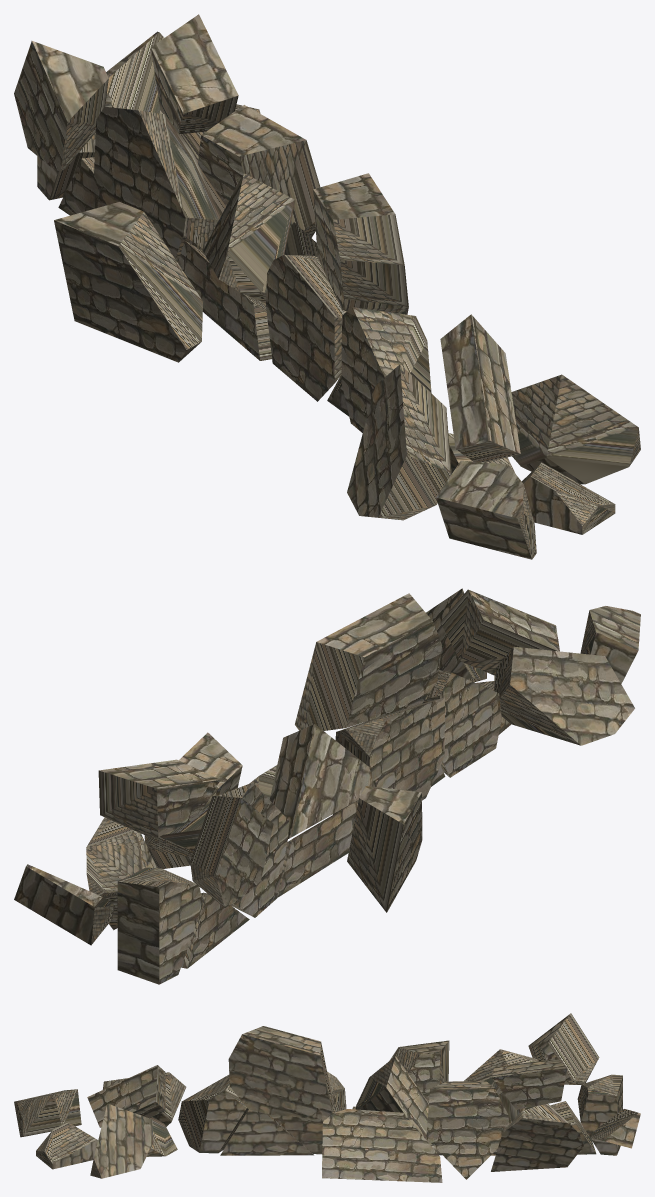
Rendered from BreakWallLarge_000009.obj.
3 views of the same model, one above another, from view 1: azimuth 30°, elevation 25°; view 2: azimuth 150°, elevation 25°; view 3: azimuth 270°, elevation 25° (orthographic). The views are drawn at different scales.
Visible parts, largest first — view 1: Cube.057_cell.017_Cube.057_cell.016, Cube.057_cell.014_Cube.057_cell.013, Cube.057_cell.021_Cube.057_cell.020, Cube.057_cell.018_Cube.057_cell.017, Cube.057_cell.007_Cube.057_cell.006, Cube.057_cell.013_Cube.057_cell.012, Cube.057_cell.001_Cube.057_cell.000, Cube.057_cell.020_Cube.057_cell.019, Cube.057_cell.011_Cube.057_cell.010, Cube.057_cell.015_Cube.057_cell.014, Cube.057_cell_Cube.057_cell.022, Cube.057_cell.016_Cube.057_cell.015 (+7 smaller); view 2: Cube.057_cell.018_Cube.057_cell.017, Cube.057_cell.021_Cube.057_cell.020, Cube.057_cell.003_Cube.057_cell.002, Cube.057_cell_Cube.057_cell.022, Cube.057_cell.013_Cube.057_cell.012, Cube.057_cell.016_Cube.057_cell.015, Cube.057_cell.017_Cube.057_cell.016, Cube.057_cell.001_Cube.057_cell.000, Cube.057_cell.011_Cube.057_cell.010, Cube.057_cell.010_Cube.057_cell.009, Cube.057_cell.019_Cube.057_cell.018, Cube.057_cell.020_Cube.057_cell.019 (+6 smaller); view 3: Cube.057_cell.018_Cube.057_cell.017, Cube.057_cell.004_Cube.057_cell.003, Cube.057_cell.020_Cube.057_cell.019, Cube.057_cell.012_Cube.057_cell.011, Cube.057_cell.010_Cube.057_cell.009, Cube.057_cell.007_Cube.057_cell.006, Cube.057_cell_Cube.057_cell.022, Cube.057_cell.016_Cube.057_cell.015, Cube.057_cell.001_Cube.057_cell.000, Cube.057_cell.011_Cube.057_cell.010, Cube.057_cell.002_Cube.057_cell.001, Cube.057_cell.015_Cube.057_cell.014 (+9 smaller).
Boxes of the visible parts, left/top/right/bottom form: Cube.057_cell.017_Cube.057_cell.016: left=54, top=202, right=203, bottom=362; Cube.057_cell.014_Cube.057_cell.013: left=93, top=106, right=220, bottom=262; Cube.057_cell.021_Cube.057_cell.020: left=347, top=364, right=451, bottom=520; Cube.057_cell.018_Cube.057_cell.017: left=313, top=173, right=408, bottom=314; Cube.057_cell.007_Cube.057_cell.006: left=511, top=374, right=640, bottom=484; Cube.057_cell.013_Cube.057_cell.012: left=266, top=254, right=346, bottom=401; Cube.057_cell.001_Cube.057_cell.000: left=14, top=41, right=108, bottom=170; Cube.057_cell.020_Cube.057_cell.019: left=198, top=105, right=320, bottom=237; Cube.057_cell.011_Cube.057_cell.010: left=440, top=314, right=520, bottom=462; Cube.057_cell.015_Cube.057_cell.014: left=436, top=460, right=536, bottom=559; Cube.057_cell_Cube.057_cell.022: left=203, top=173, right=295, bottom=302; Cube.057_cell.016_Cube.057_cell.015: left=151, top=14, right=238, bottom=133; Cube.057_cell.018_Cube.057_cell.017: left=295, top=593, right=442, bottom=730; Cube.057_cell.021_Cube.057_cell.020: left=494, top=646, right=634, bottom=745; Cube.057_cell.003_Cube.057_cell.002: left=117, top=867, right=202, bottom=984; Cube.057_cell_Cube.057_cell.022: left=269, top=724, right=374, bottom=838; Cube.057_cell.013_Cube.057_cell.012: left=333, top=697, right=444, bottom=814; Cube.057_cell.016_Cube.057_cell.015: left=98, top=759, right=220, bottom=837; Cube.057_cell.017_Cube.057_cell.016: left=347, top=786, right=422, bottom=912; Cube.057_cell.001_Cube.057_cell.000: left=190, top=796, right=273, bottom=907; Cube.057_cell.011_Cube.057_cell.010: left=440, top=589, right=559, bottom=675; Cube.057_cell.010_Cube.057_cell.009: left=415, top=669, right=501, bottom=777; Cube.057_cell.019_Cube.057_cell.018: left=14, top=864, right=114, bottom=945; Cube.057_cell.020_Cube.057_cell.019: left=144, top=732, right=242, bottom=868; Cube.057_cell.018_Cube.057_cell.017: left=228, top=1026, right=332, bottom=1119; Cube.057_cell.004_Cube.057_cell.003: left=322, top=1109, right=442, bottom=1182; Cube.057_cell.020_Cube.057_cell.019: left=426, top=1081, right=511, bottom=1179; Cube.057_cell.012_Cube.057_cell.011: left=491, top=1104, right=583, bottom=1171; Cube.057_cell.010_Cube.057_cell.009: left=178, top=1075, right=248, bottom=1153; Cube.057_cell.007_Cube.057_cell.006: left=90, top=1103, right=153, bottom=1178; Cube.057_cell_Cube.057_cell.022: left=355, top=1056, right=429, bottom=1142; Cube.057_cell.016_Cube.057_cell.015: left=491, top=1058, right=567, bottom=1109; Cube.057_cell.001_Cube.057_cell.000: left=528, top=1013, right=599, bottom=1084; Cube.057_cell.011_Cube.057_cell.010: left=87, top=1065, right=165, bottom=1127; Cube.057_cell.002_Cube.057_cell.001: left=220, top=1109, right=313, bottom=1155; Cube.057_cell.015_Cube.057_cell.014: left=14, top=1089, right=81, bottom=1137.
Bounding box in the file's own units: 22.47 × 14.35 × 69.36.
Materials: 2 (2 with a texture image).
